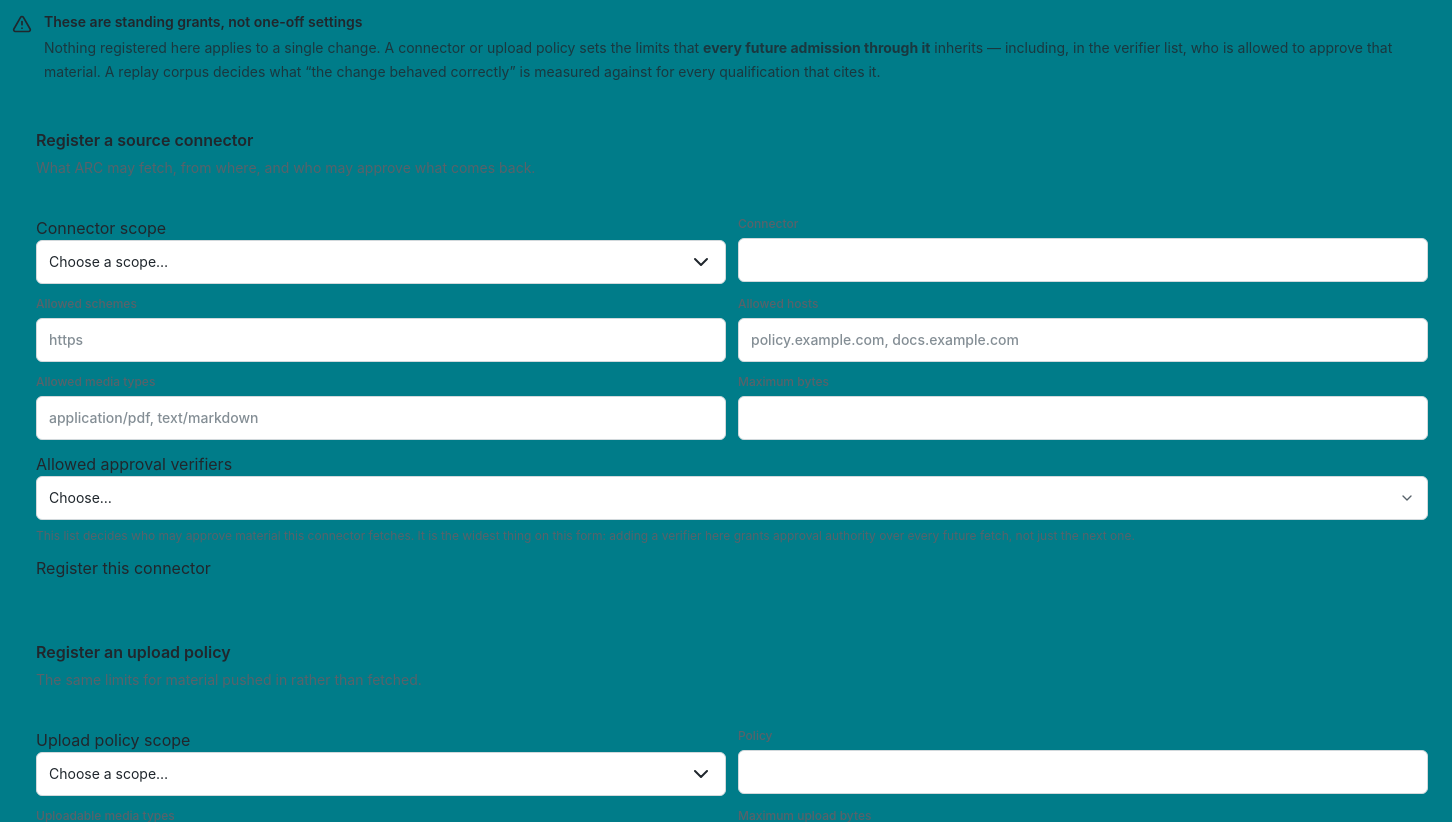
Test: SourceGovernancePanel › offers enrolled verifiers rather than asking for a list of UUIDs
Click the button with aria-label "Allowed approval verifiers": (80, 498) 36,476 -> 1428,520
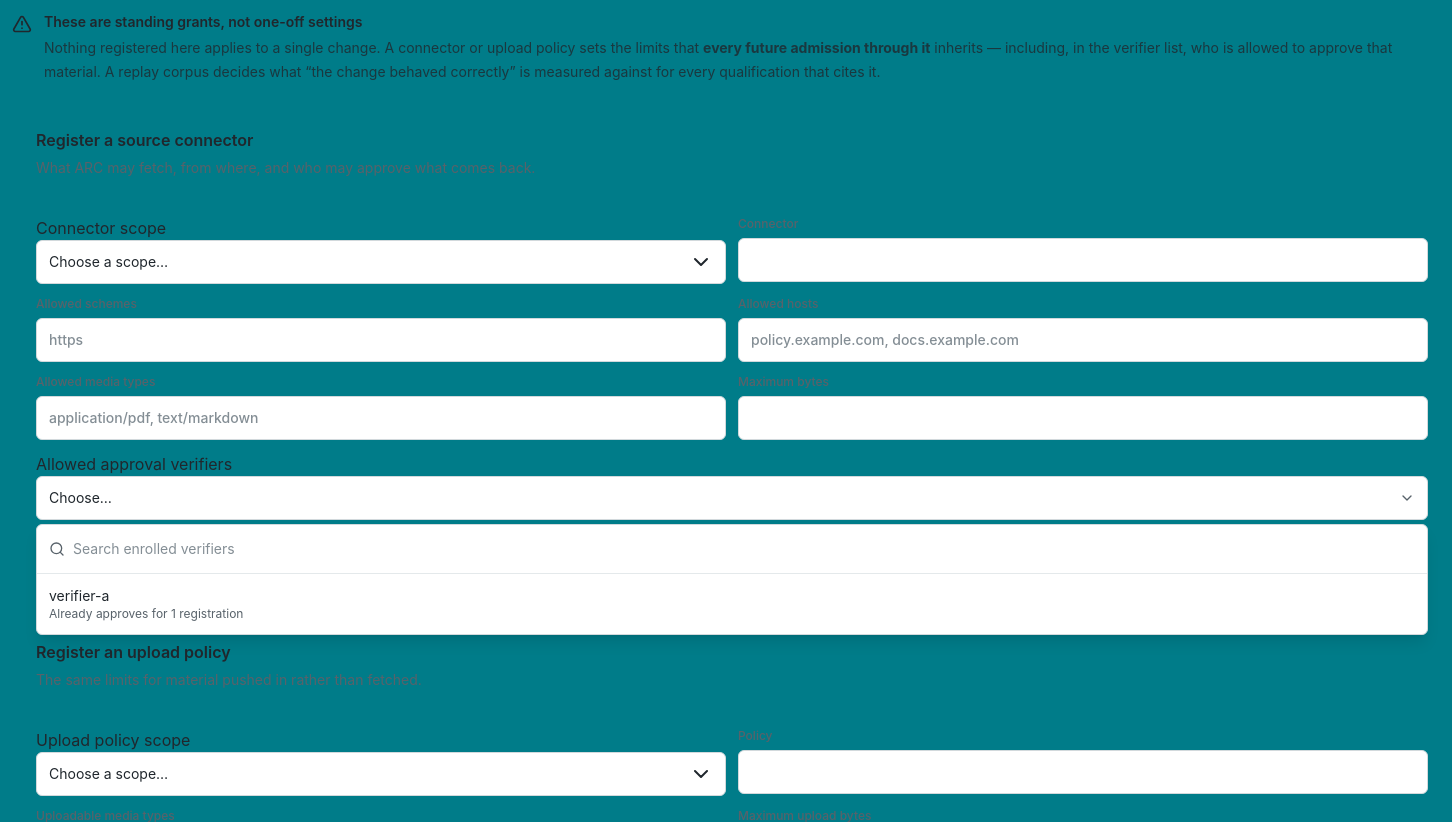
expect the option "verifier-a Already approves for 1 registration" is shown: met, box 37,578 -> 1427,630
